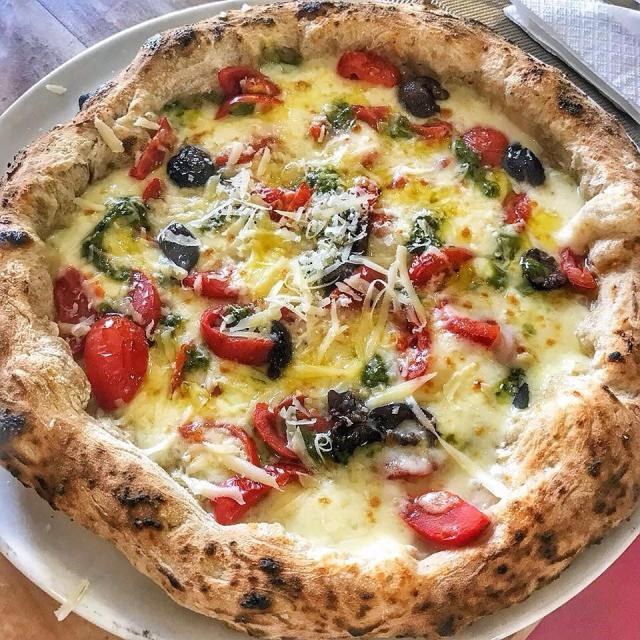pizza: (0, 0, 640, 640)
tomatoes: (84, 314, 149, 410), (403, 492, 490, 546), (200, 306, 274, 364), (216, 62, 282, 115), (129, 118, 176, 180), (408, 246, 472, 287), (338, 50, 400, 86), (129, 270, 161, 336), (260, 183, 313, 220), (461, 126, 509, 166), (445, 315, 500, 347), (560, 247, 596, 289), (502, 191, 532, 224), (412, 122, 452, 142)
